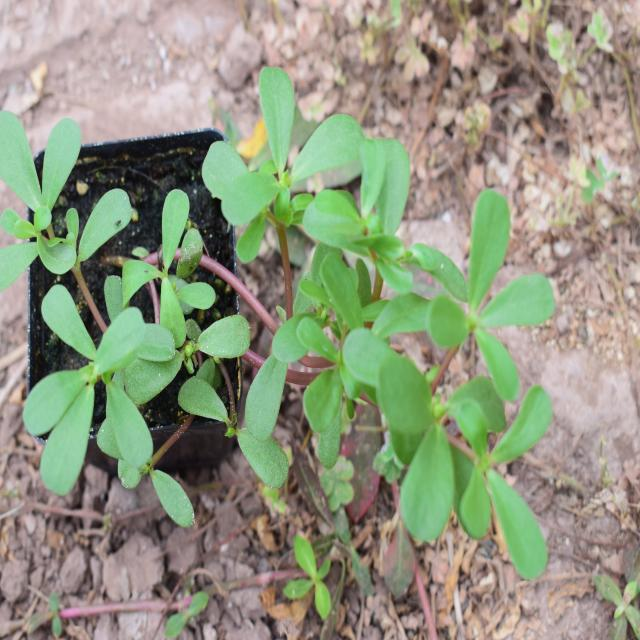purslane: (218, 89, 566, 573), (0, 107, 240, 494)
